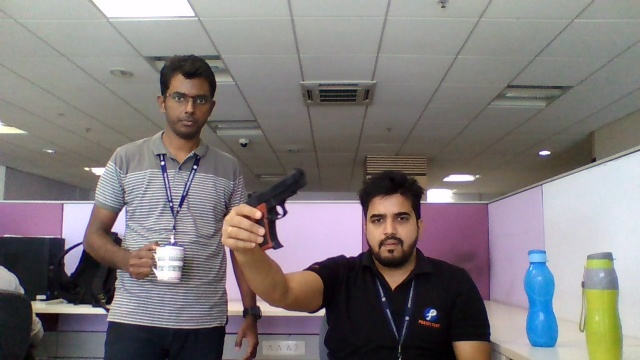gun: (264, 168, 307, 251)
